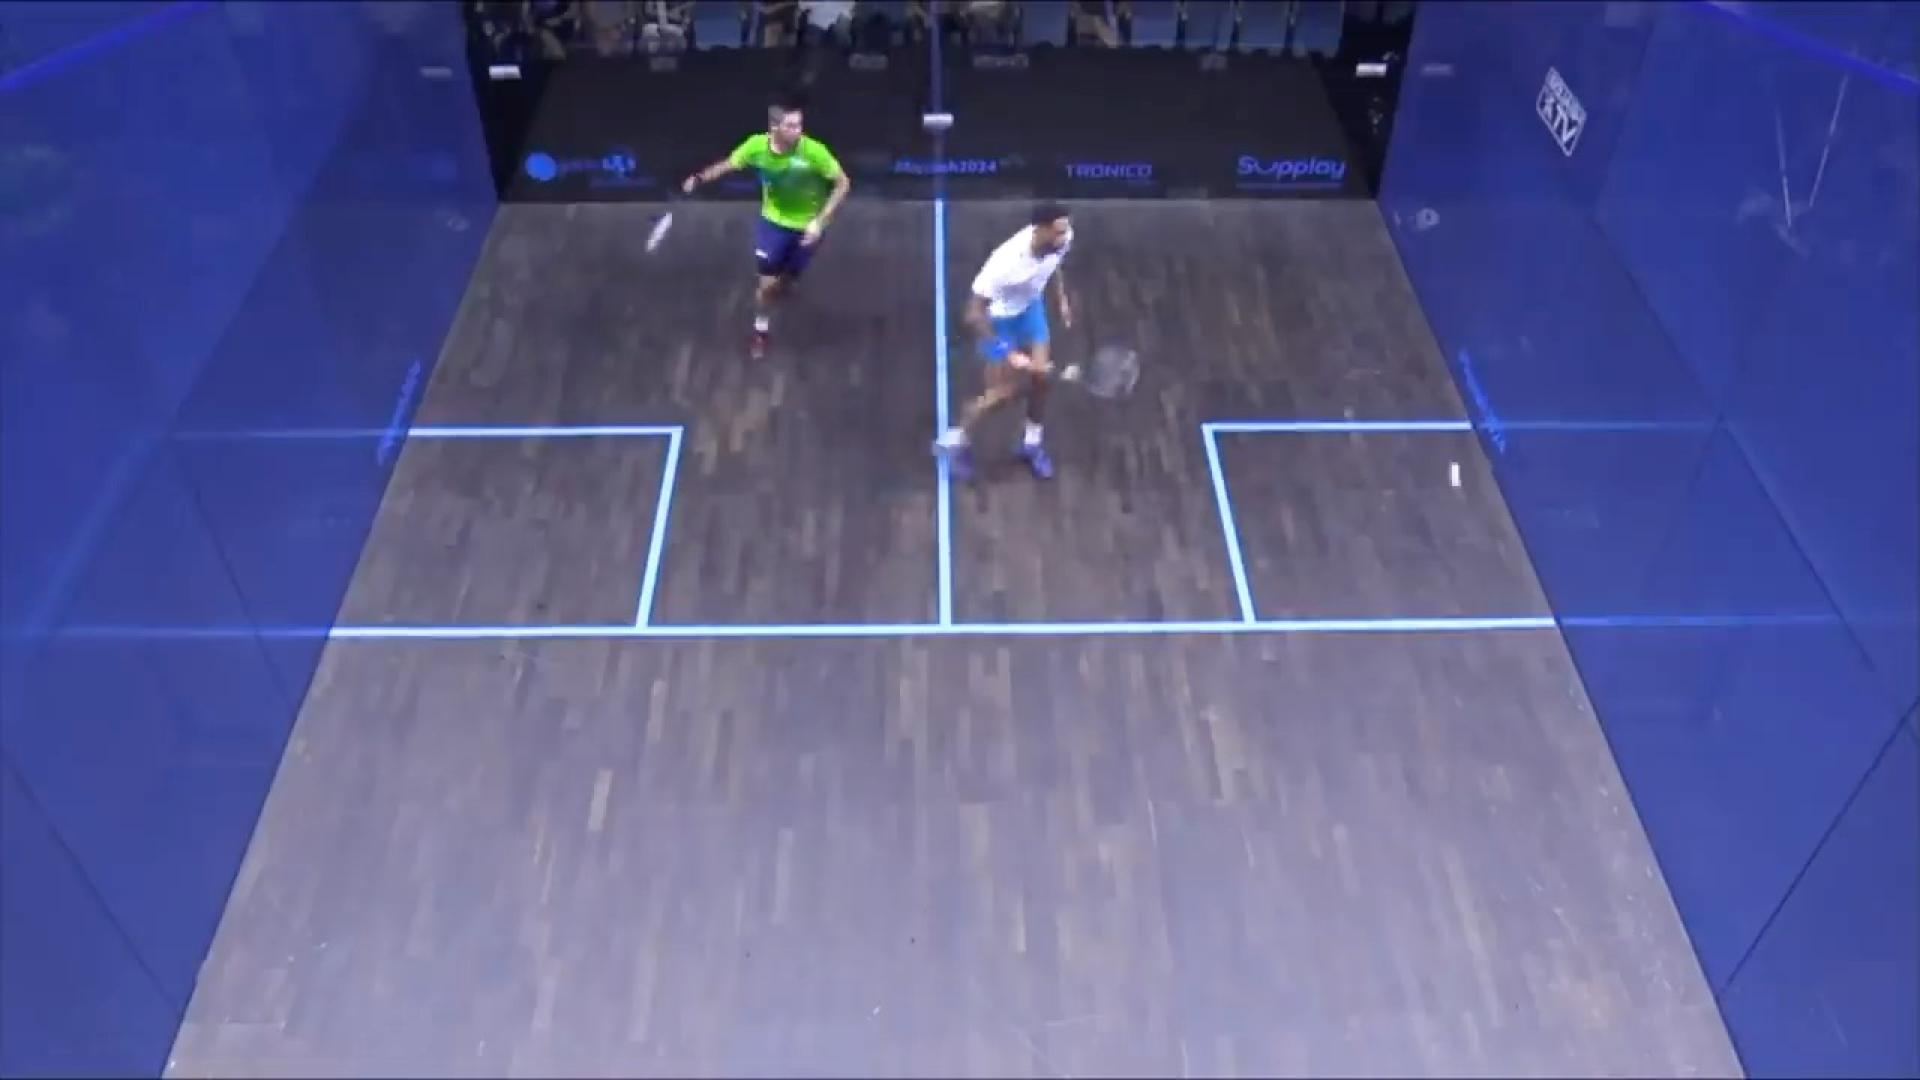Squash-Ball: (1432, 450, 1482, 497)
